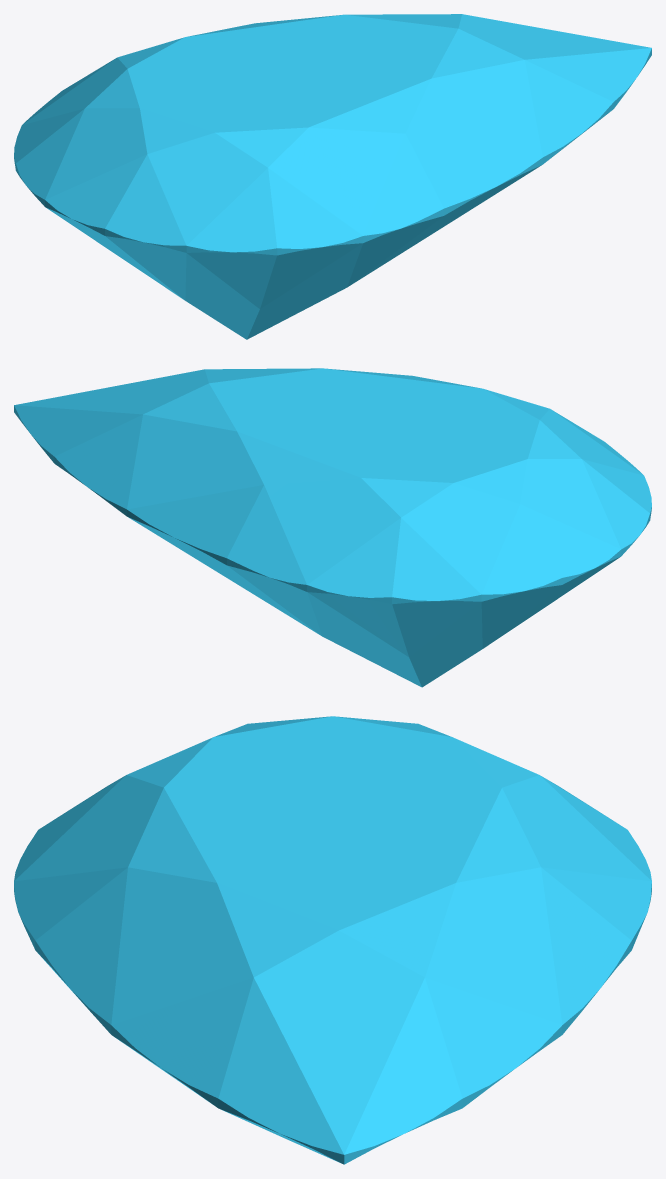
File: pear.glb
3 renders of one model, top to bottom at view 1: azimuth 30°, elevation 25°; view 2: azimuth 150°, elevation 25°; view 3: azimuth 270°, elevation 25°, orthographic. The views are drawn at different scales.
Parts seen in each view (by area): view 1: Object_134; view 2: Object_134; view 3: Object_134.
Boxes of the visible parts, bbox=[...] form: Object_134: bbox=[14, 14, 651, 339]; Object_134: bbox=[14, 368, 651, 687]; Object_134: bbox=[14, 716, 651, 1164].
Bounding box in the file's own units: 3.03 × 1.22 × 2.
